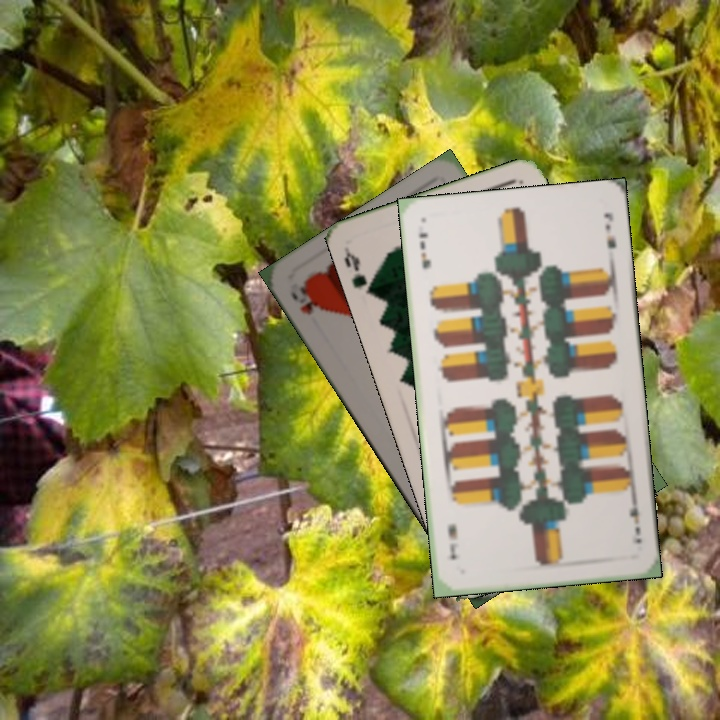E7: (625, 493, 645, 546), (415, 228, 433, 271)
G9: (340, 244, 377, 298)
HO: (286, 277, 324, 318)
